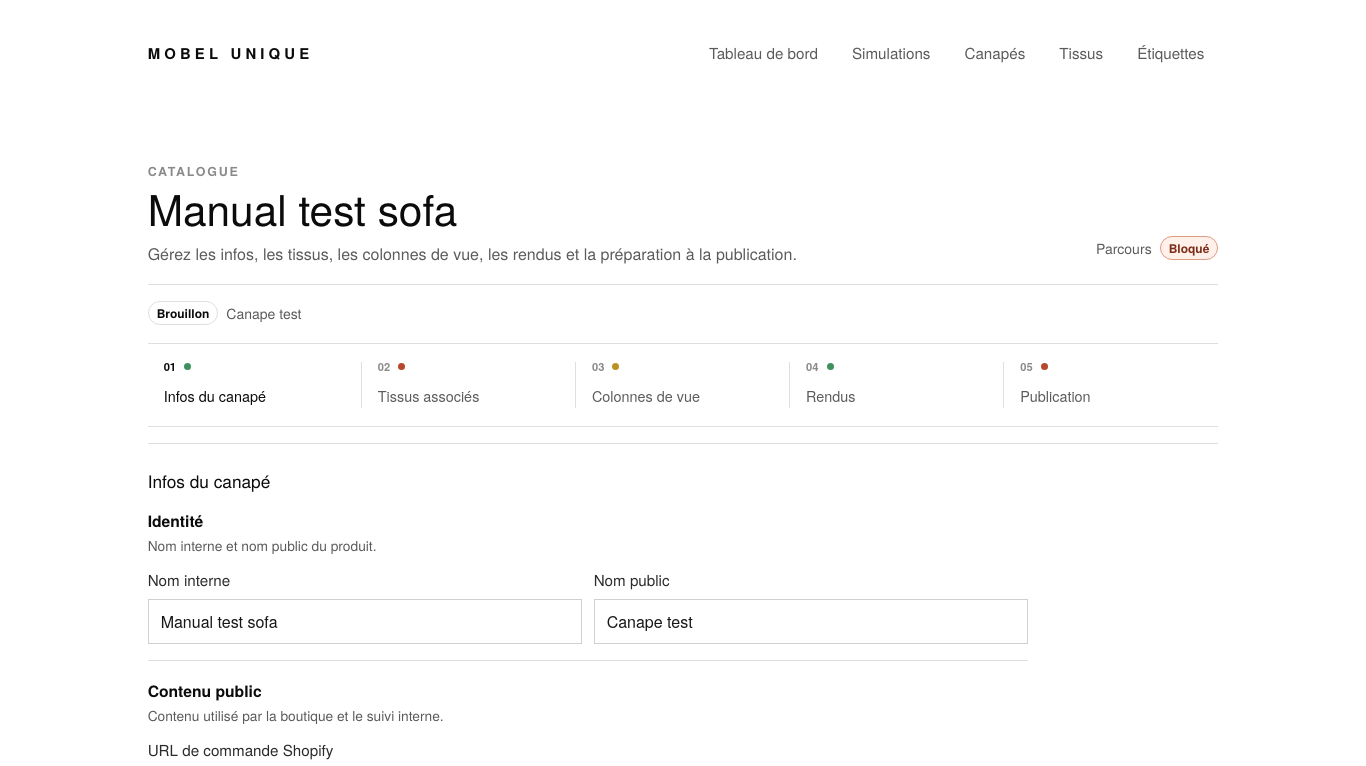
Test: Admin catalog pages › marks manual upload current render cells with the source image badge
Check: the heading "Manual test sofa" is shown, box [148, 178, 457, 240]
Click the tab "04 Rendus": (897, 385) [790, 358, 1004, 412]
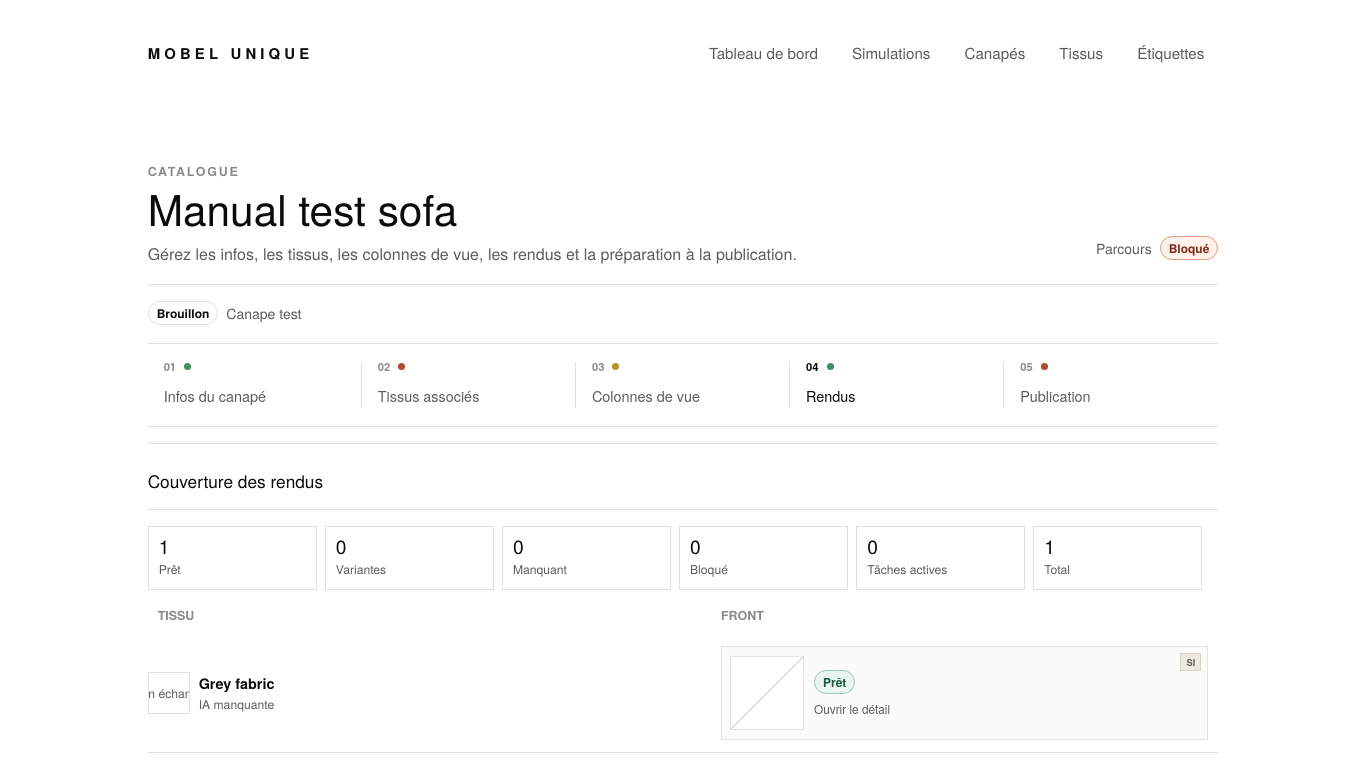
Check: the text "Envoi manuel" is not shown
Click the button with aria-label "Grey fabric, Front :": (767, 693) [721, 646, 1208, 740]
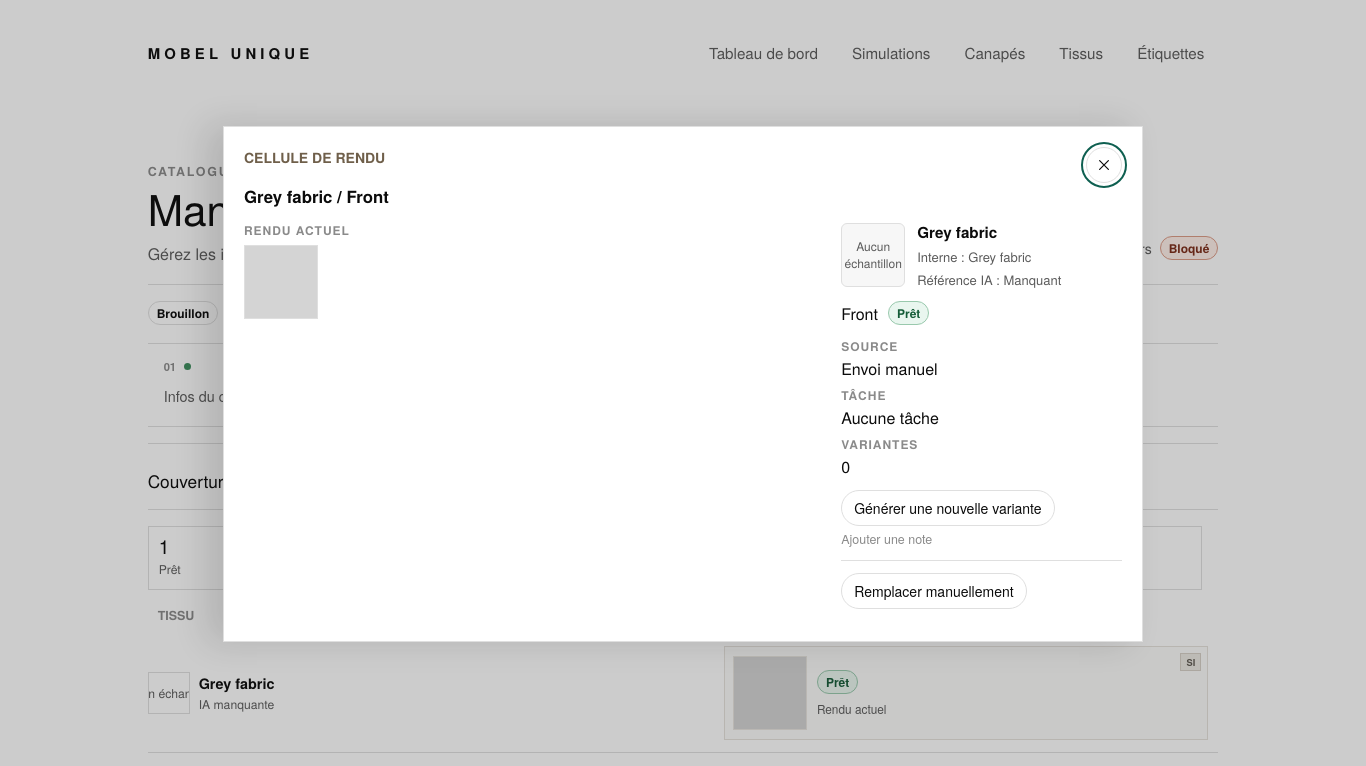
Check: the text "Envoi manuel" is shown, box [841, 357, 938, 380]
